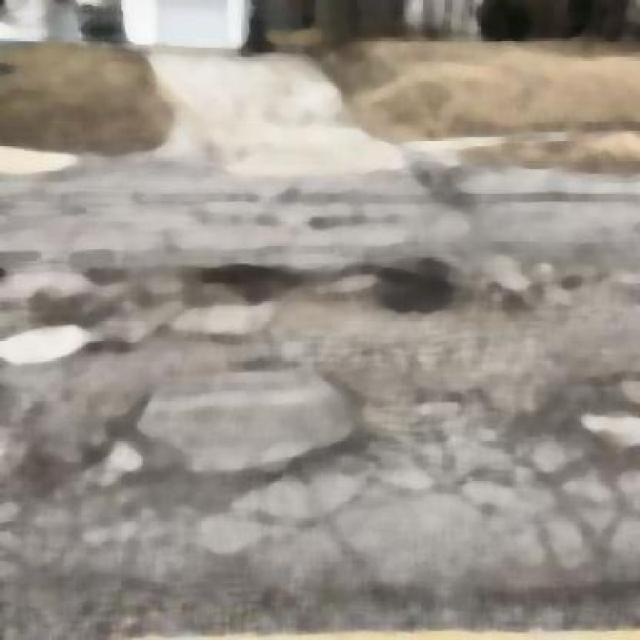Pothole: (315, 268, 460, 310), (0, 262, 129, 298), (0, 325, 105, 366), (188, 262, 284, 300)
